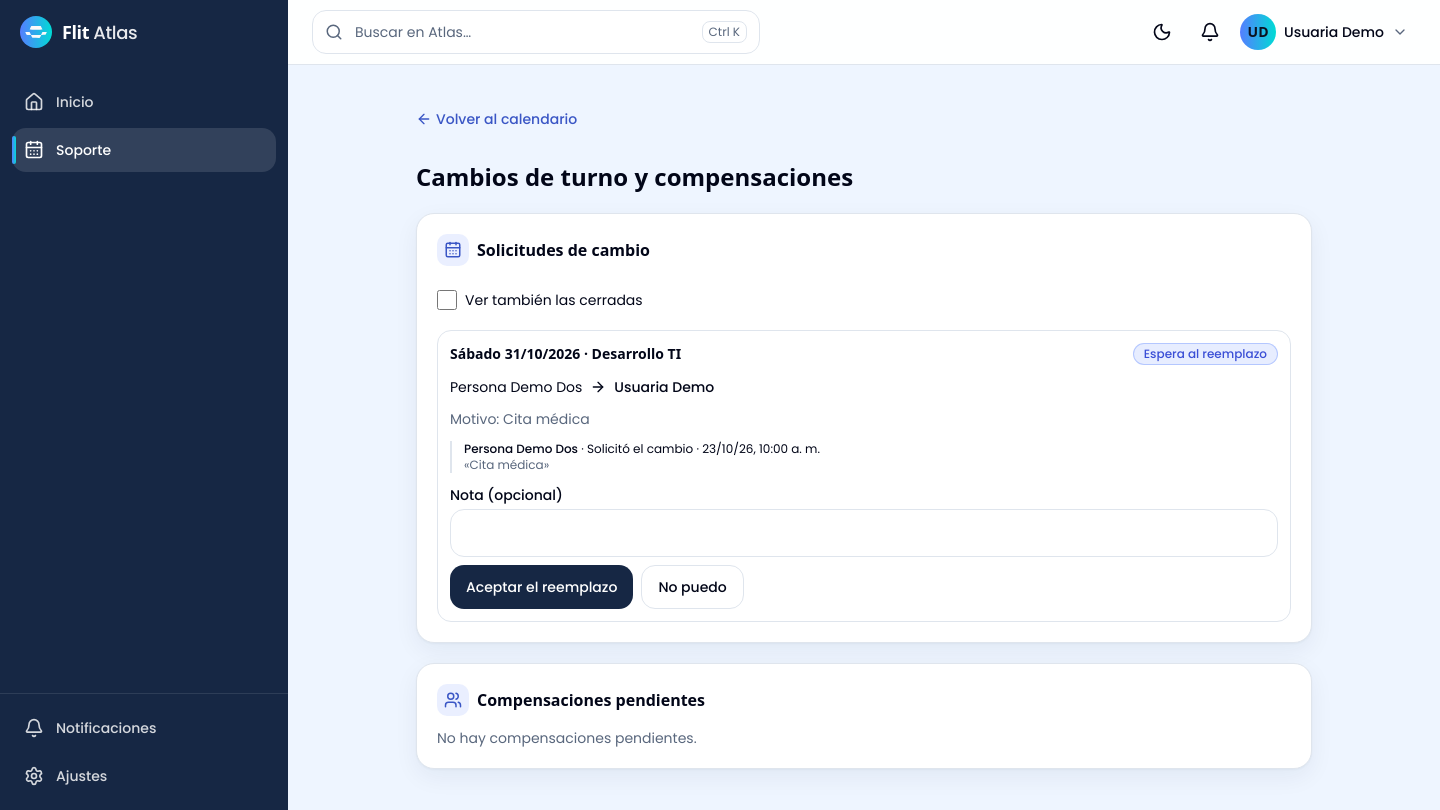
Test case: pantallas de soporte › el reemplazo acepta desde Cambios de turno y quien aprueba ve la solicitud por aprobar
Check: the text "Espera al reemplazo" is shown, box [1133, 343, 1278, 365]
Check: the list named "Historial" shows "Solicitó el cambio", box [587, 440, 693, 457]
Click the button "Aceptar el reemplazo" at {"x": 542, "y": 587}, box [450, 565, 633, 609]
(page scrolled)
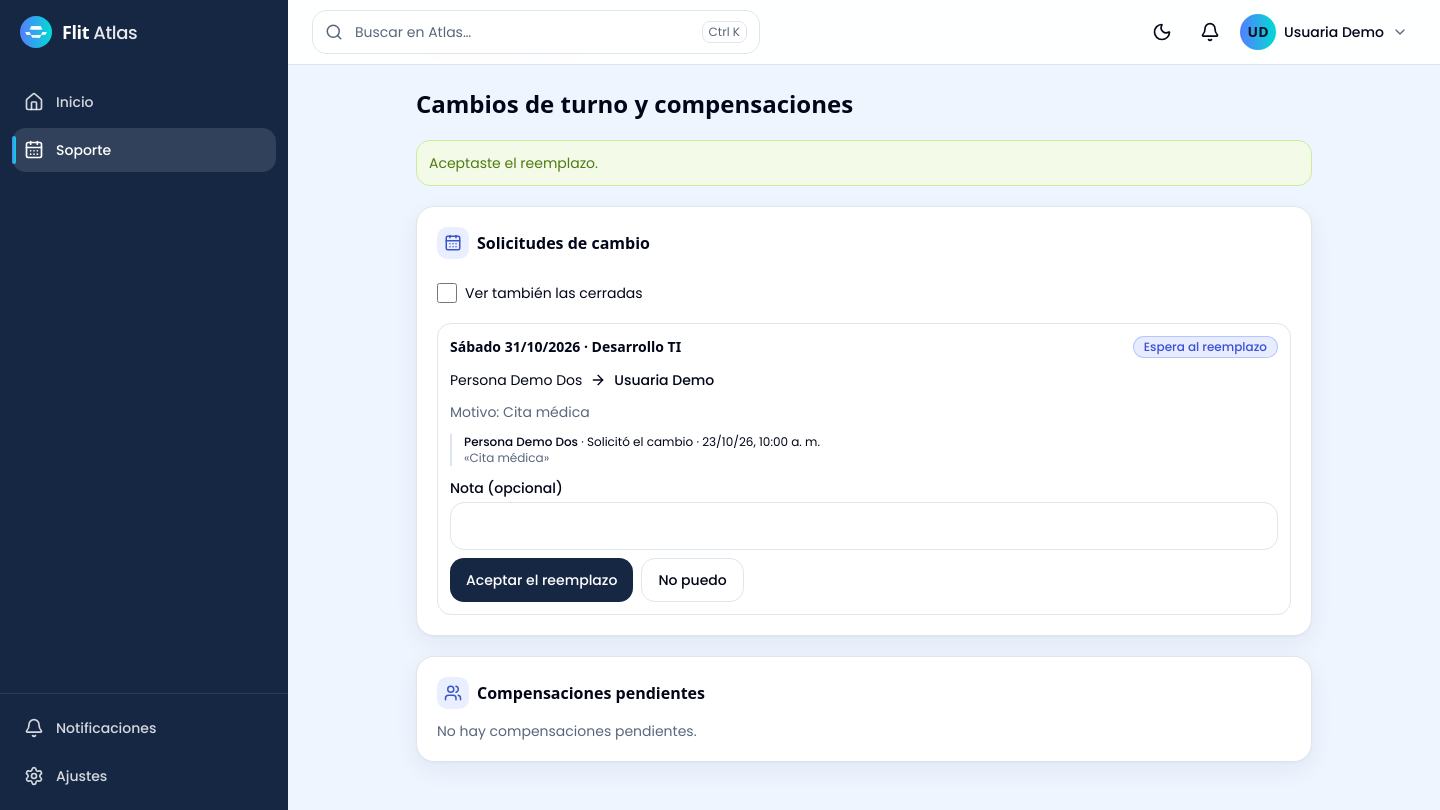
Check: the text "No hay compensaciones pendientes." is shown, box [437, 721, 697, 741]
Check: the text "Aceptaste el reemplazo." is shown, box [416, 140, 1312, 186]
